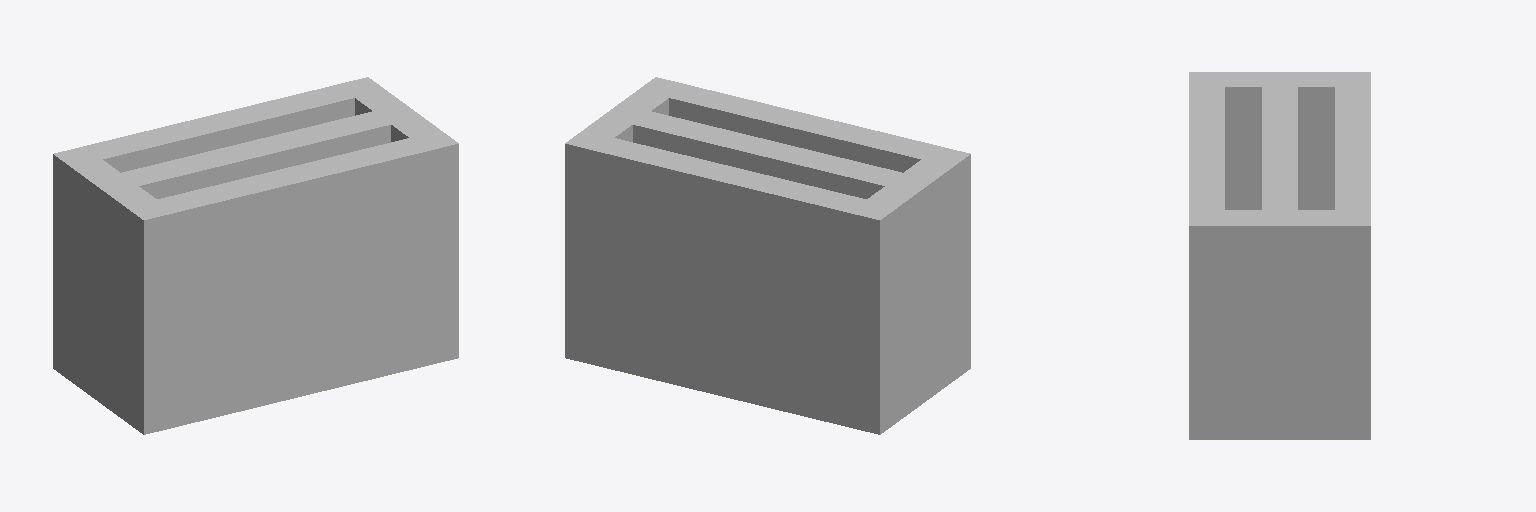
File: Toaster.obj
The picture shows the model from 3 angles: view 1: azimuth 30°, elevation 25°; view 2: azimuth 150°, elevation 25°; view 3: azimuth 270°, elevation 25°; orthographic projection.
Bounding box in the file's own units: 2 × 1.3 × 1.